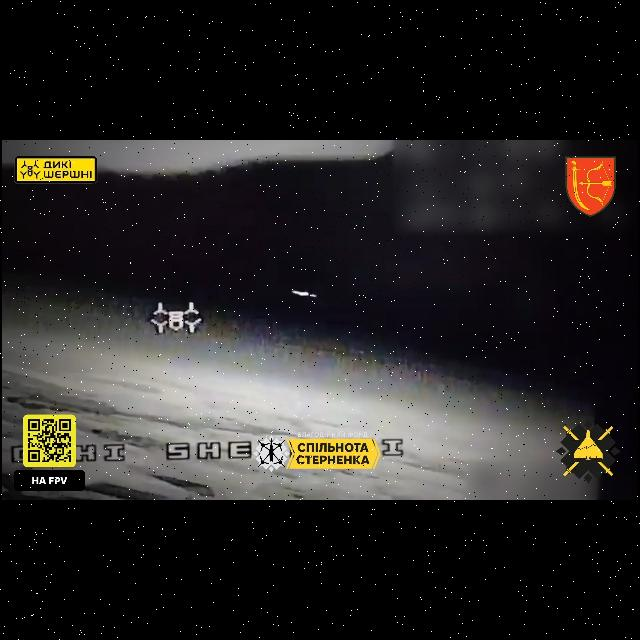Gerbera: (291, 290, 317, 298)
